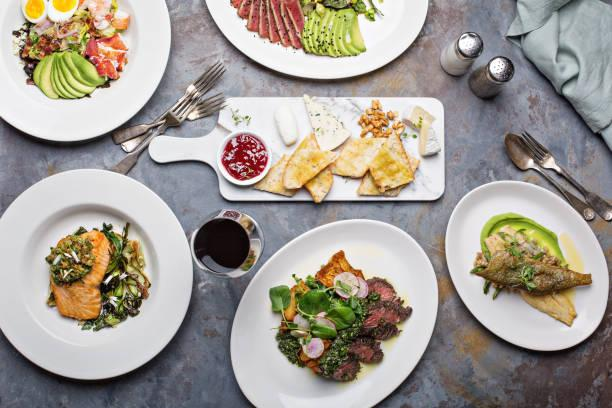Braised Crucian Carp: (0, 169, 192, 381), (229, 218, 436, 407), (179, 95, 444, 202), (443, 180, 608, 350), (1, 0, 173, 142)
